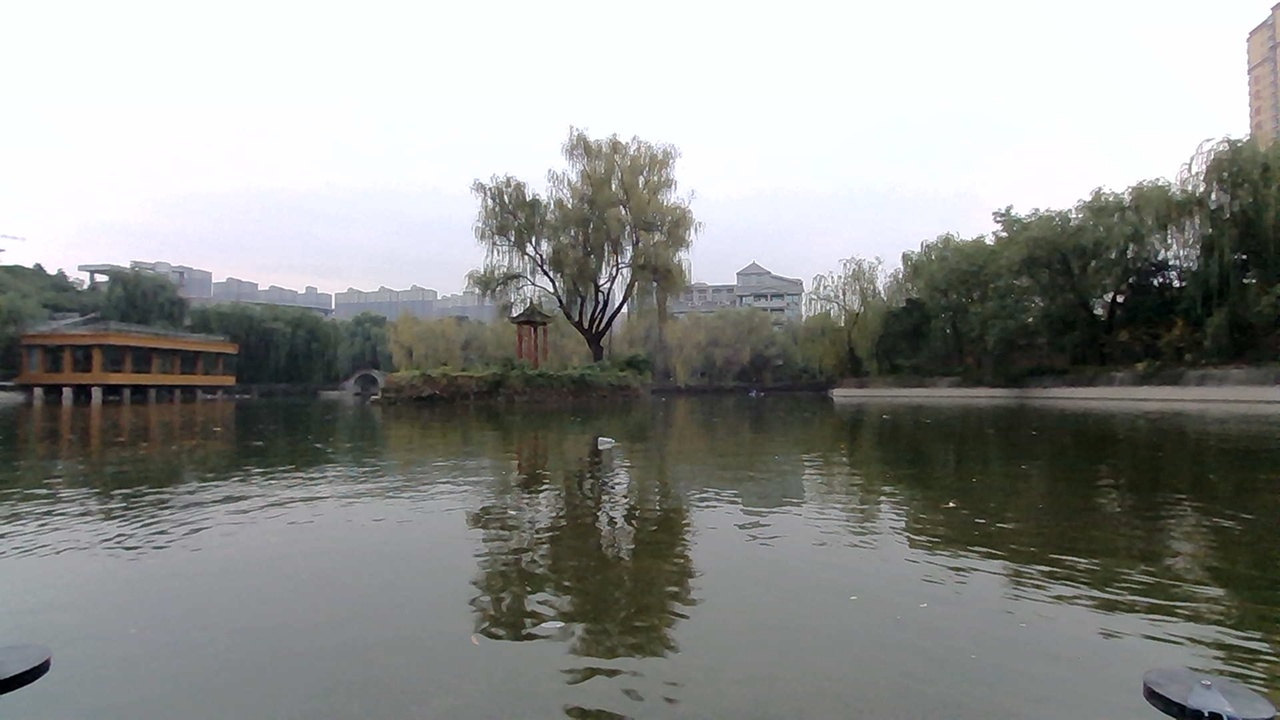bottle: (590, 414, 654, 447)
